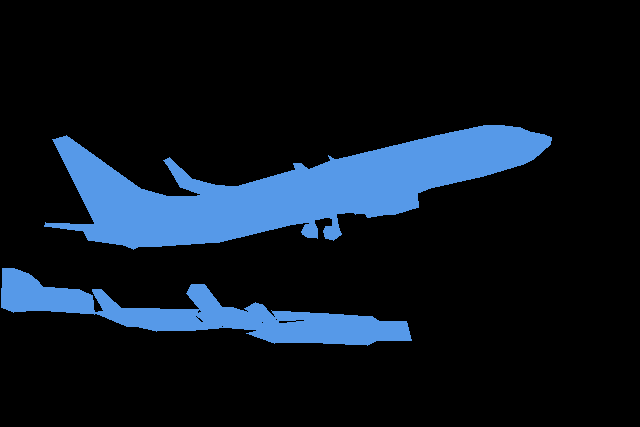Airplane: (44, 125, 552, 250), (186, 284, 378, 331), (244, 302, 411, 345), (92, 289, 231, 332), (1, 268, 94, 314)
